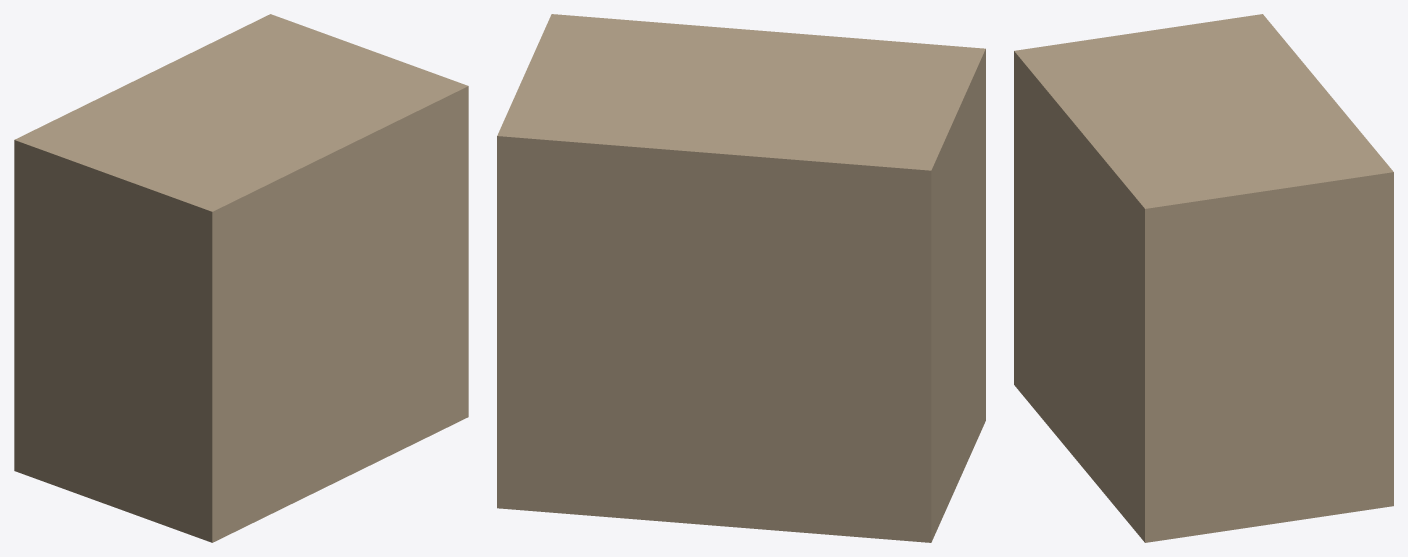
Rendered from bld_106796828.dae.
3 views of the same model, side by side, from view 1: azimuth 30°, elevation 25°; view 2: azimuth 150°, elevation 25°; view 3: azimuth 270°, elevation 25° (orthographic). The views are drawn at different scales.
Parts seen in each view (by area): view 1: bld_106796828; view 2: bld_106796828; view 3: bld_106796828.
Part boxes in pixels (left/top/right/bottom): bld_106796828: left=14, top=14, right=468, bottom=542; bld_106796828: left=497, top=14, right=985, bottom=542; bld_106796828: left=1014, top=14, right=1393, bottom=542.
Bounding box in the file's own units: 10.02 × 8.25 × 8.
